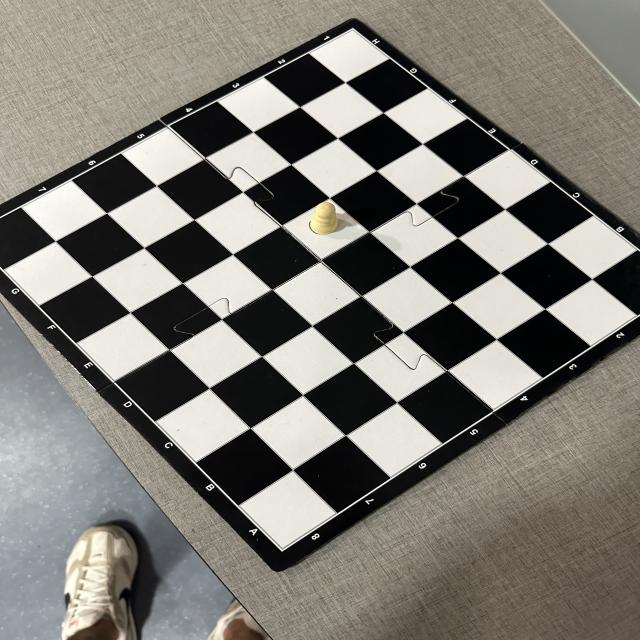White-Pawn: (309, 201, 340, 235)
